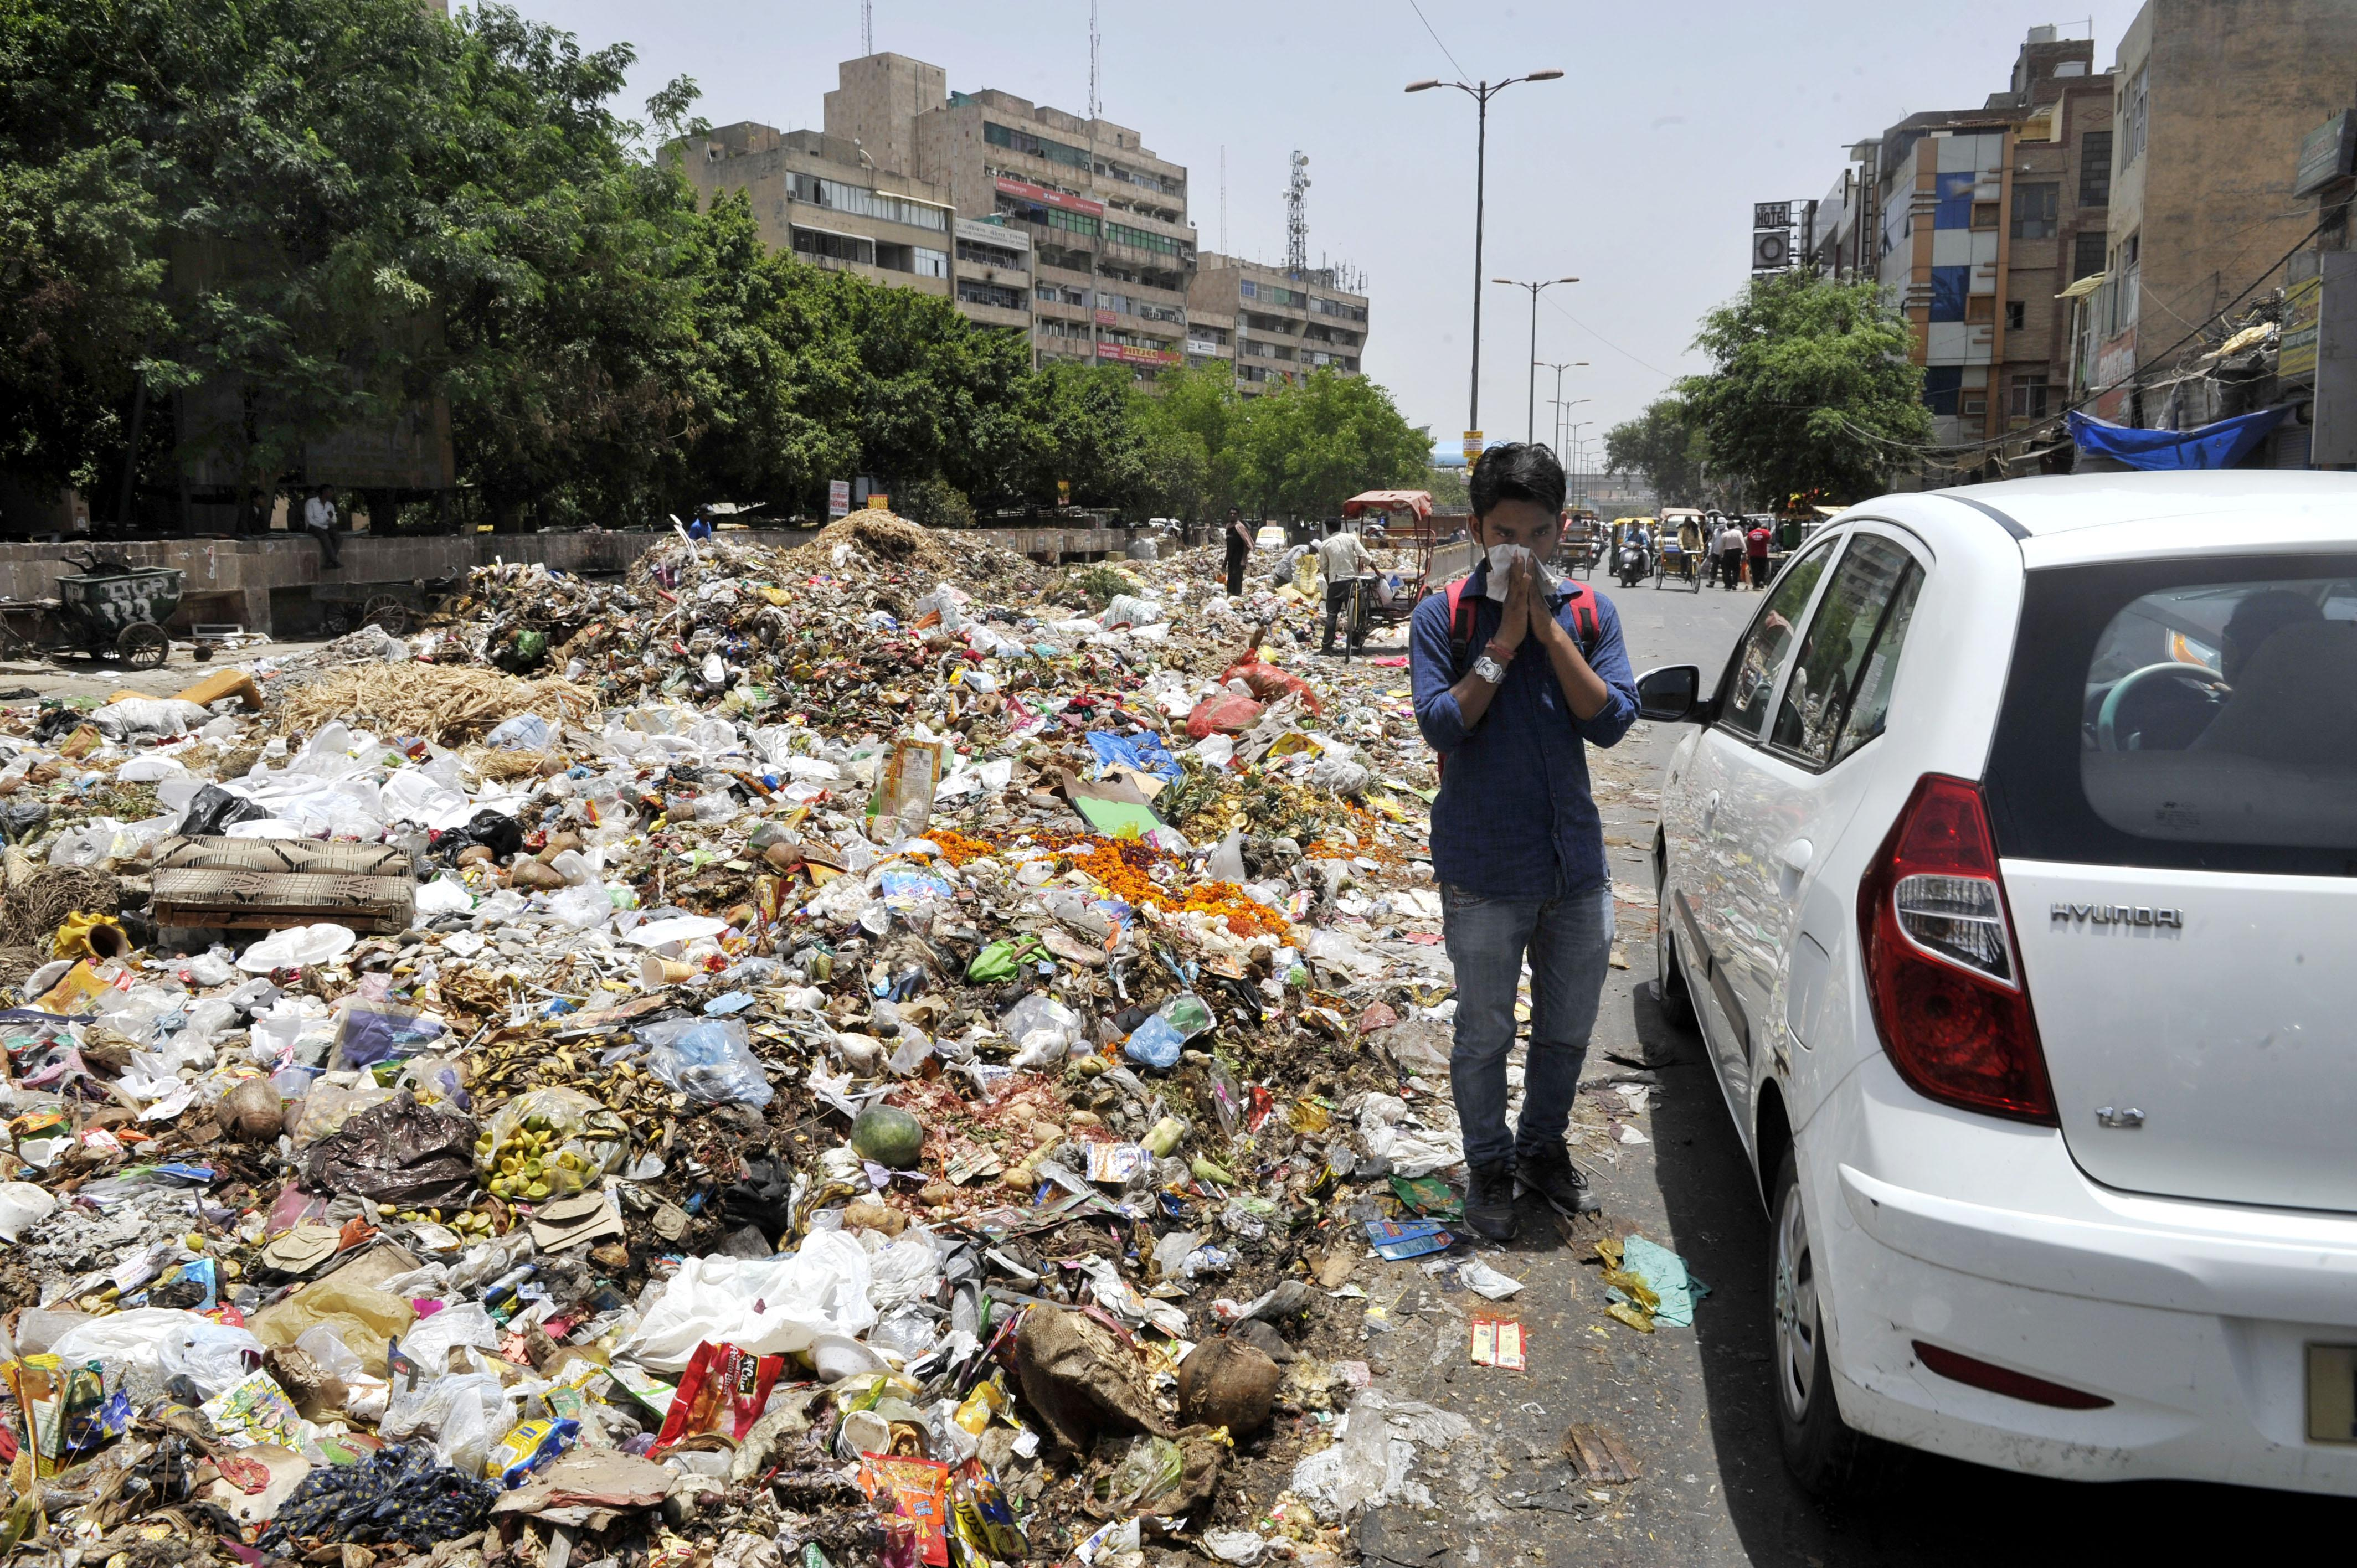Garbage: (413, 632, 1360, 1325), (492, 574, 1323, 1220), (497, 857, 1200, 1568), (143, 770, 947, 1370), (3, 702, 791, 1197), (30, 996, 670, 1568), (525, 1062, 1223, 1568), (1267, 611, 1377, 1274)
